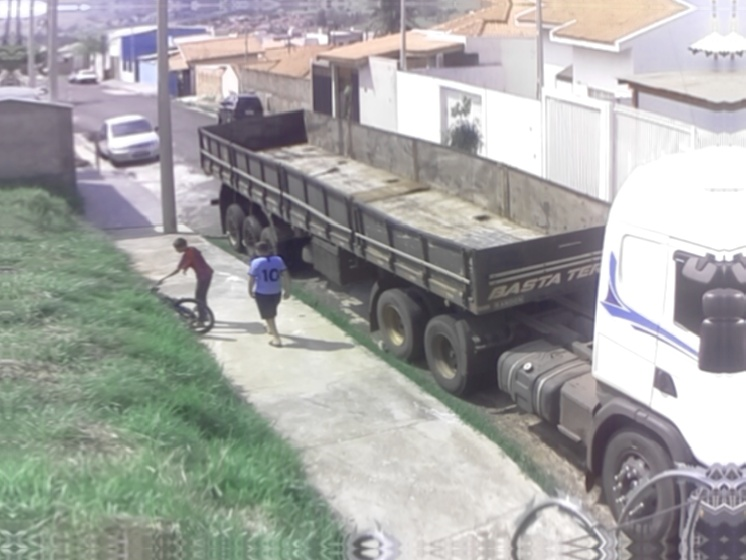person: (148, 235, 219, 330), (243, 242, 294, 350)
